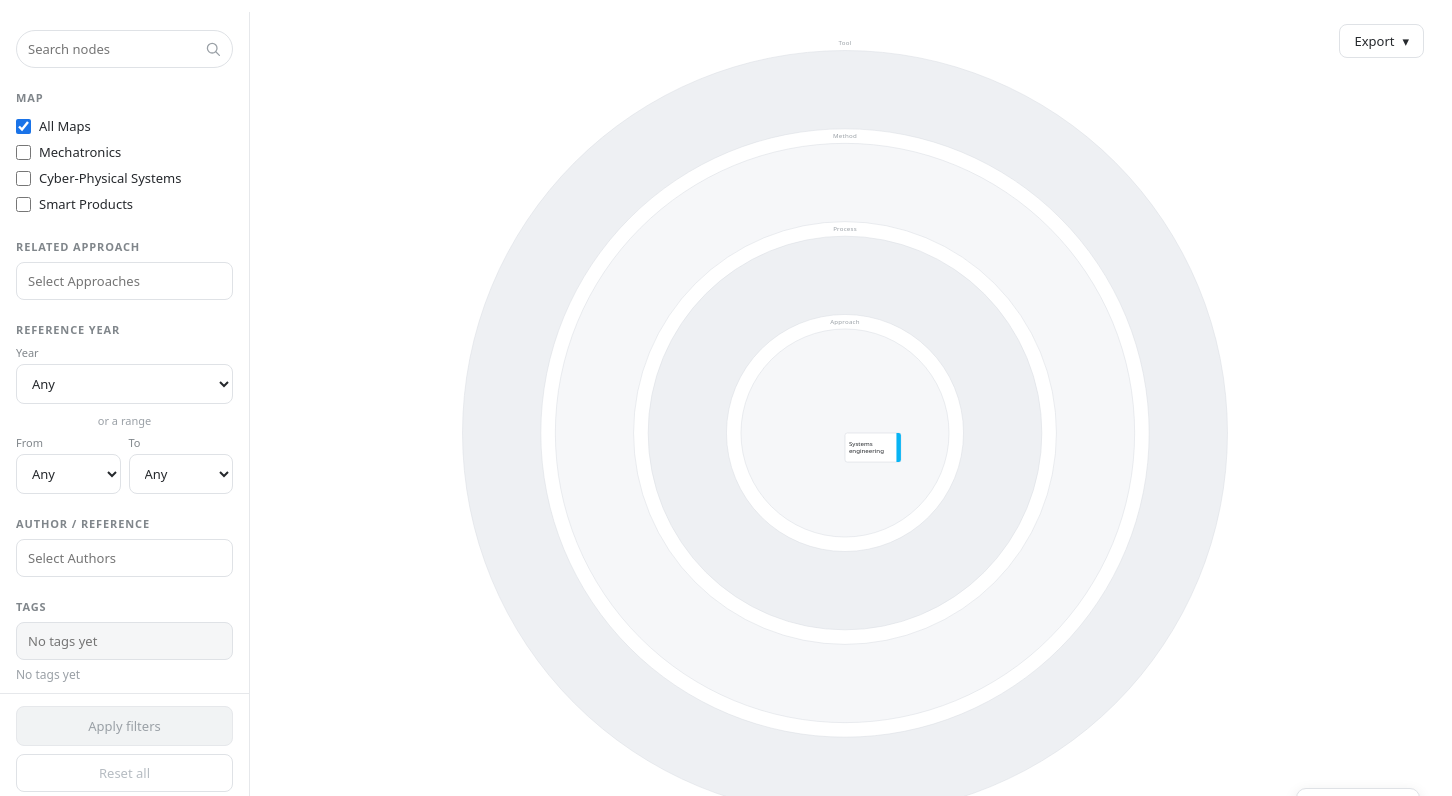
Scenario: map filter › checks All Maps again once the last individual map is cleared
Click the checkbox labelled "Mechatronics" at (24, 152), box [16,144,31,160]
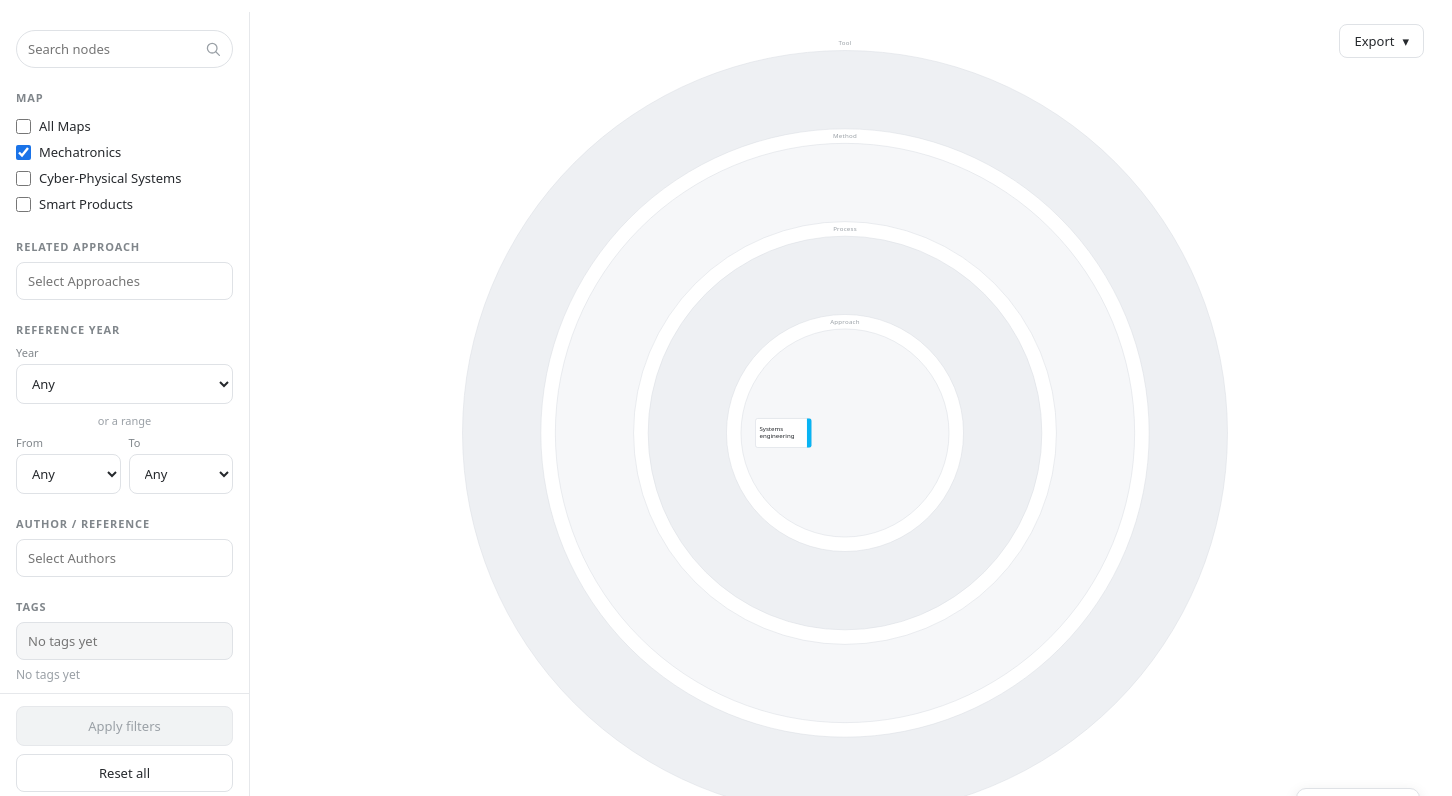
Now the checkbox labelled "All Maps" is not checked, box [16,118,31,134]
Click the checkbox labelled "Mechatronics" at (24, 152), box [16,144,31,160]
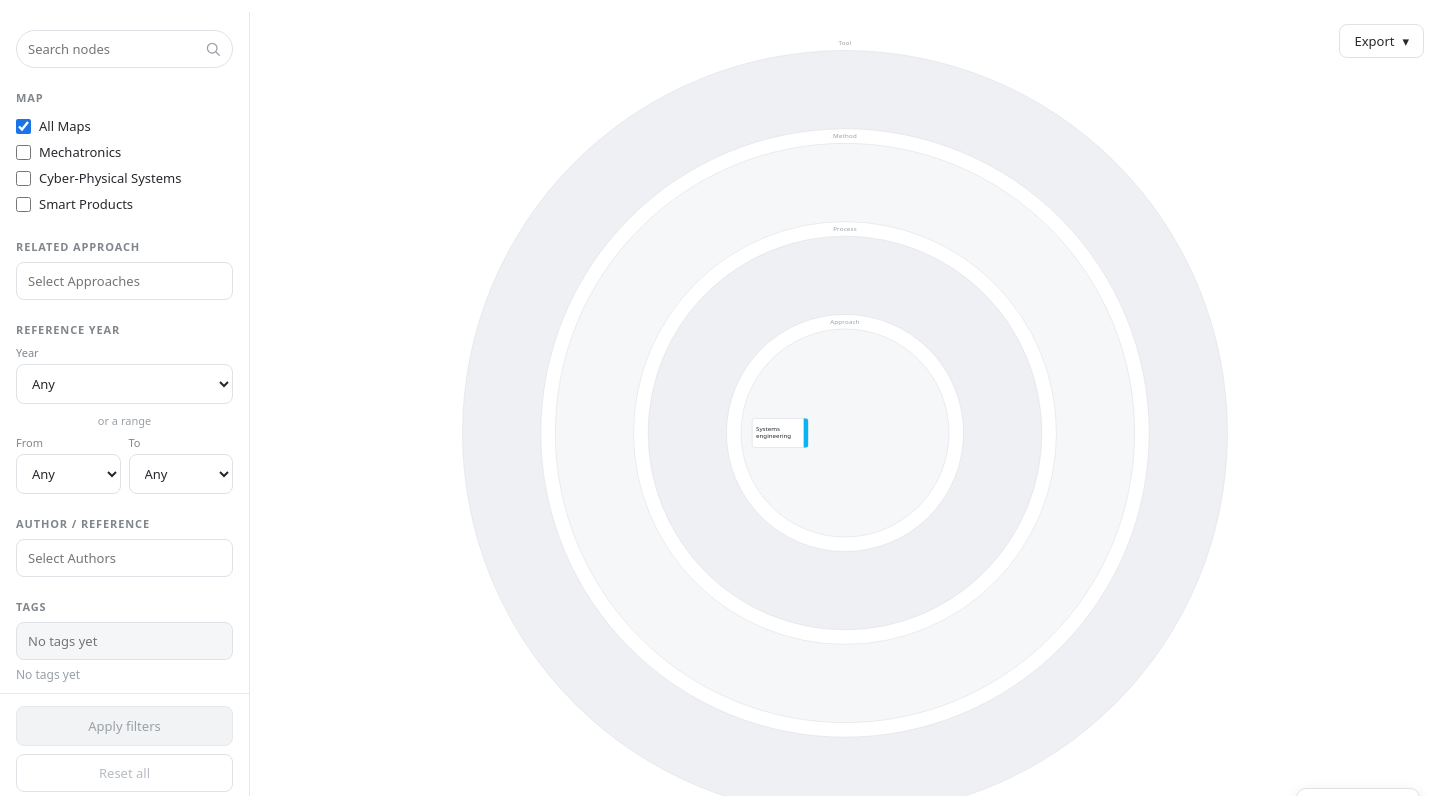
Now the checkbox labelled "All Maps" is checked, box [16,118,31,134]
